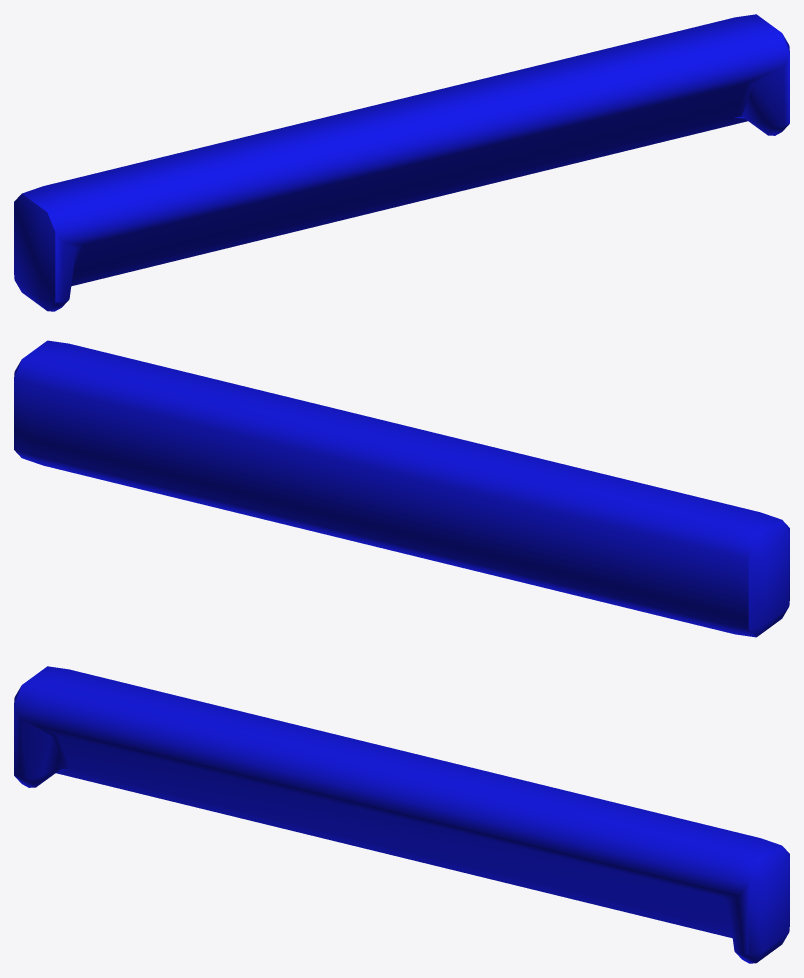
The model's file is Duvarisiklari 1.fbx.
3 views of the same model, one above another, from view 1: azimuth 30°, elevation 25°; view 2: azimuth 150°, elevation 25°; view 3: azimuth 330°, elevation 25° (orthographic).
Parts seen in each view (by area): view 1: DuvarIsiklari; view 2: DuvarIsiklari; view 3: DuvarIsiklari.
Boxes of the visible parts, x1=… form: DuvarIsiklari: x1=14, y1=14, x2=789, y2=311; DuvarIsiklari: x1=14, y1=340, x2=789, y2=637; DuvarIsiklari: x1=14, y1=666, x2=789, y2=963.
Bounding box in the file's own units: 185 × 24.36 × 18.65.
